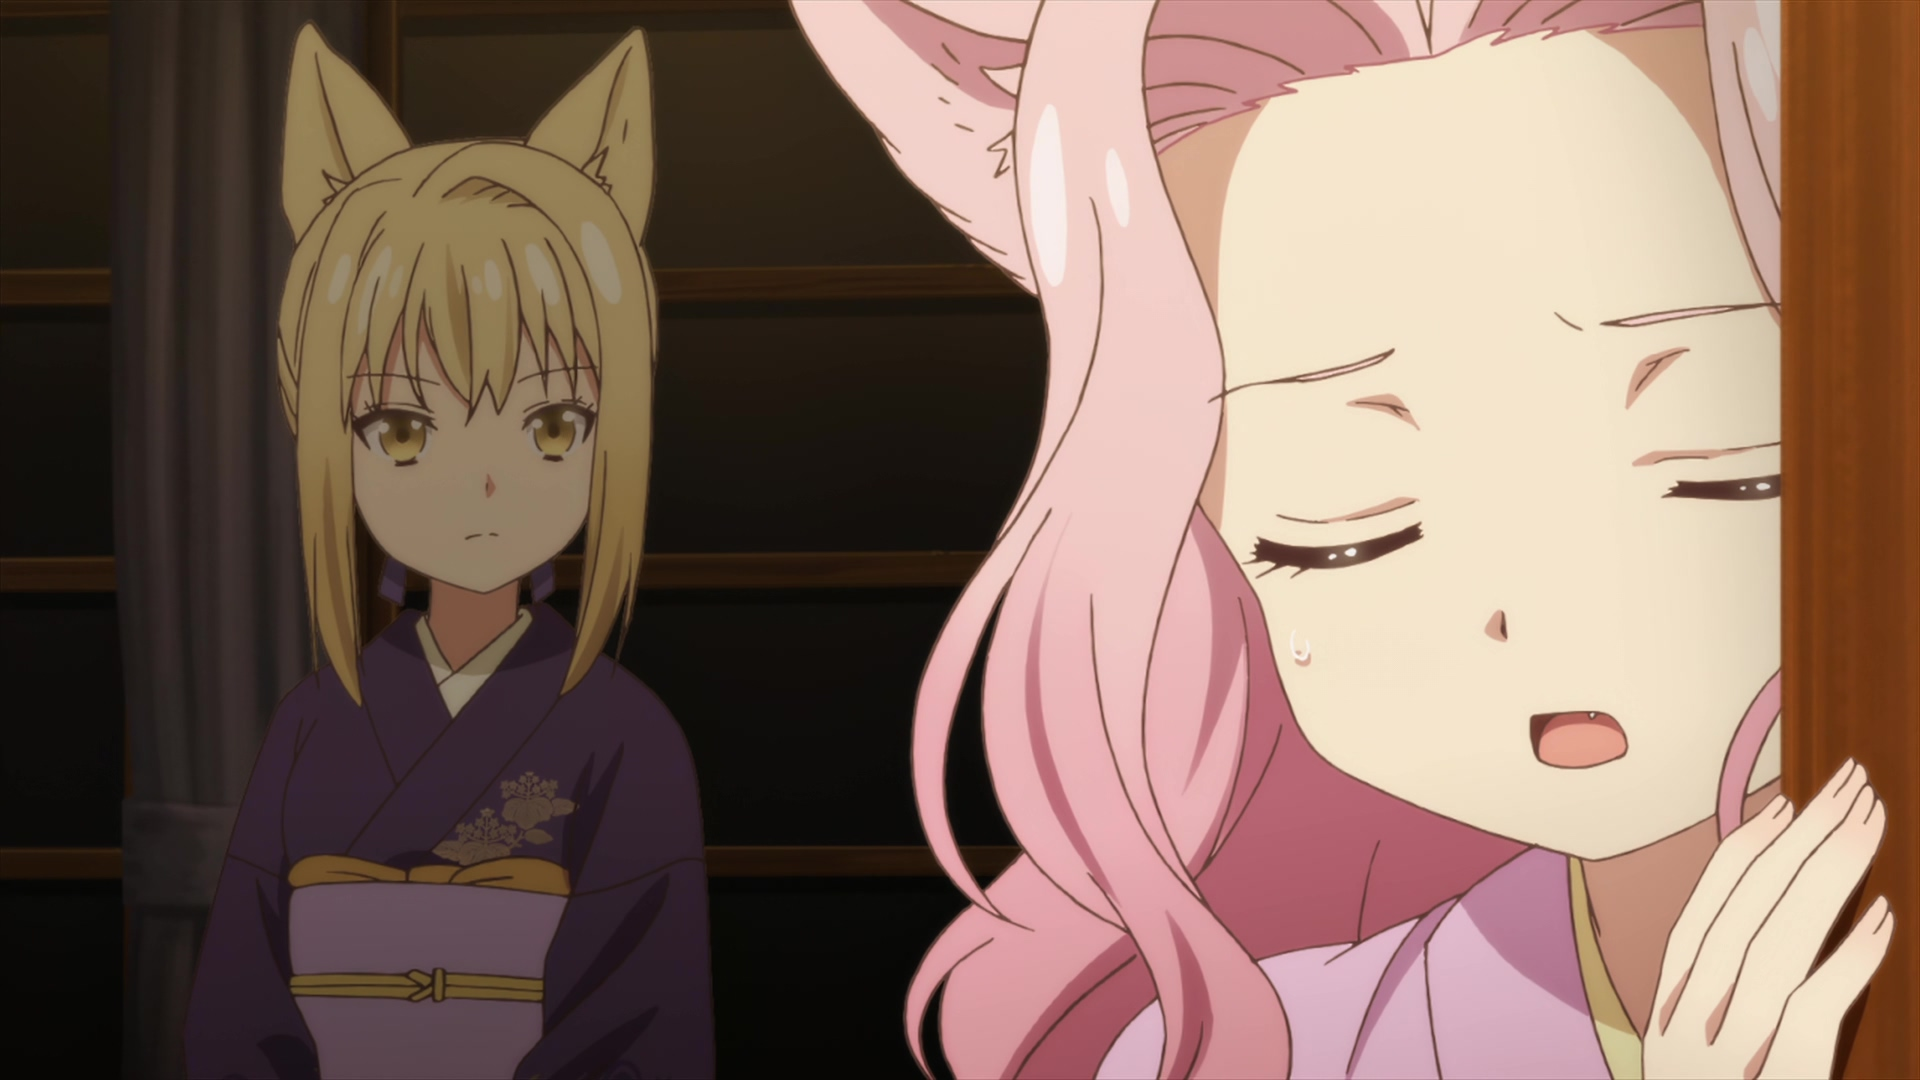桐: (173, 22, 709, 1080)
莲: (791, 1, 1892, 1080)
